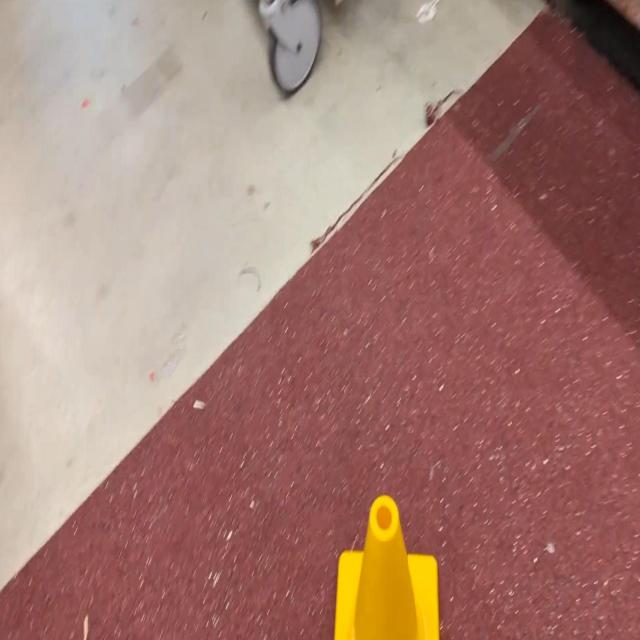frc_cone: (335, 496, 439, 639)
